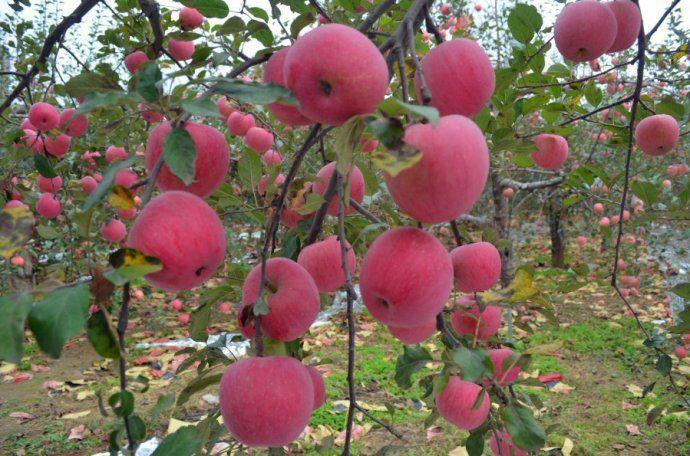apple: (386, 114, 489, 224), (121, 191, 226, 291), (288, 24, 389, 126), (215, 355, 323, 447), (358, 227, 453, 330), (415, 38, 496, 119), (148, 118, 229, 197), (240, 257, 317, 340), (555, 1, 617, 63), (298, 236, 355, 292), (436, 375, 490, 429), (451, 239, 502, 292), (608, 1, 643, 54), (636, 113, 679, 156), (529, 132, 568, 169), (27, 101, 59, 131), (59, 109, 88, 138), (242, 126, 272, 154), (33, 191, 61, 219), (225, 110, 254, 137)
